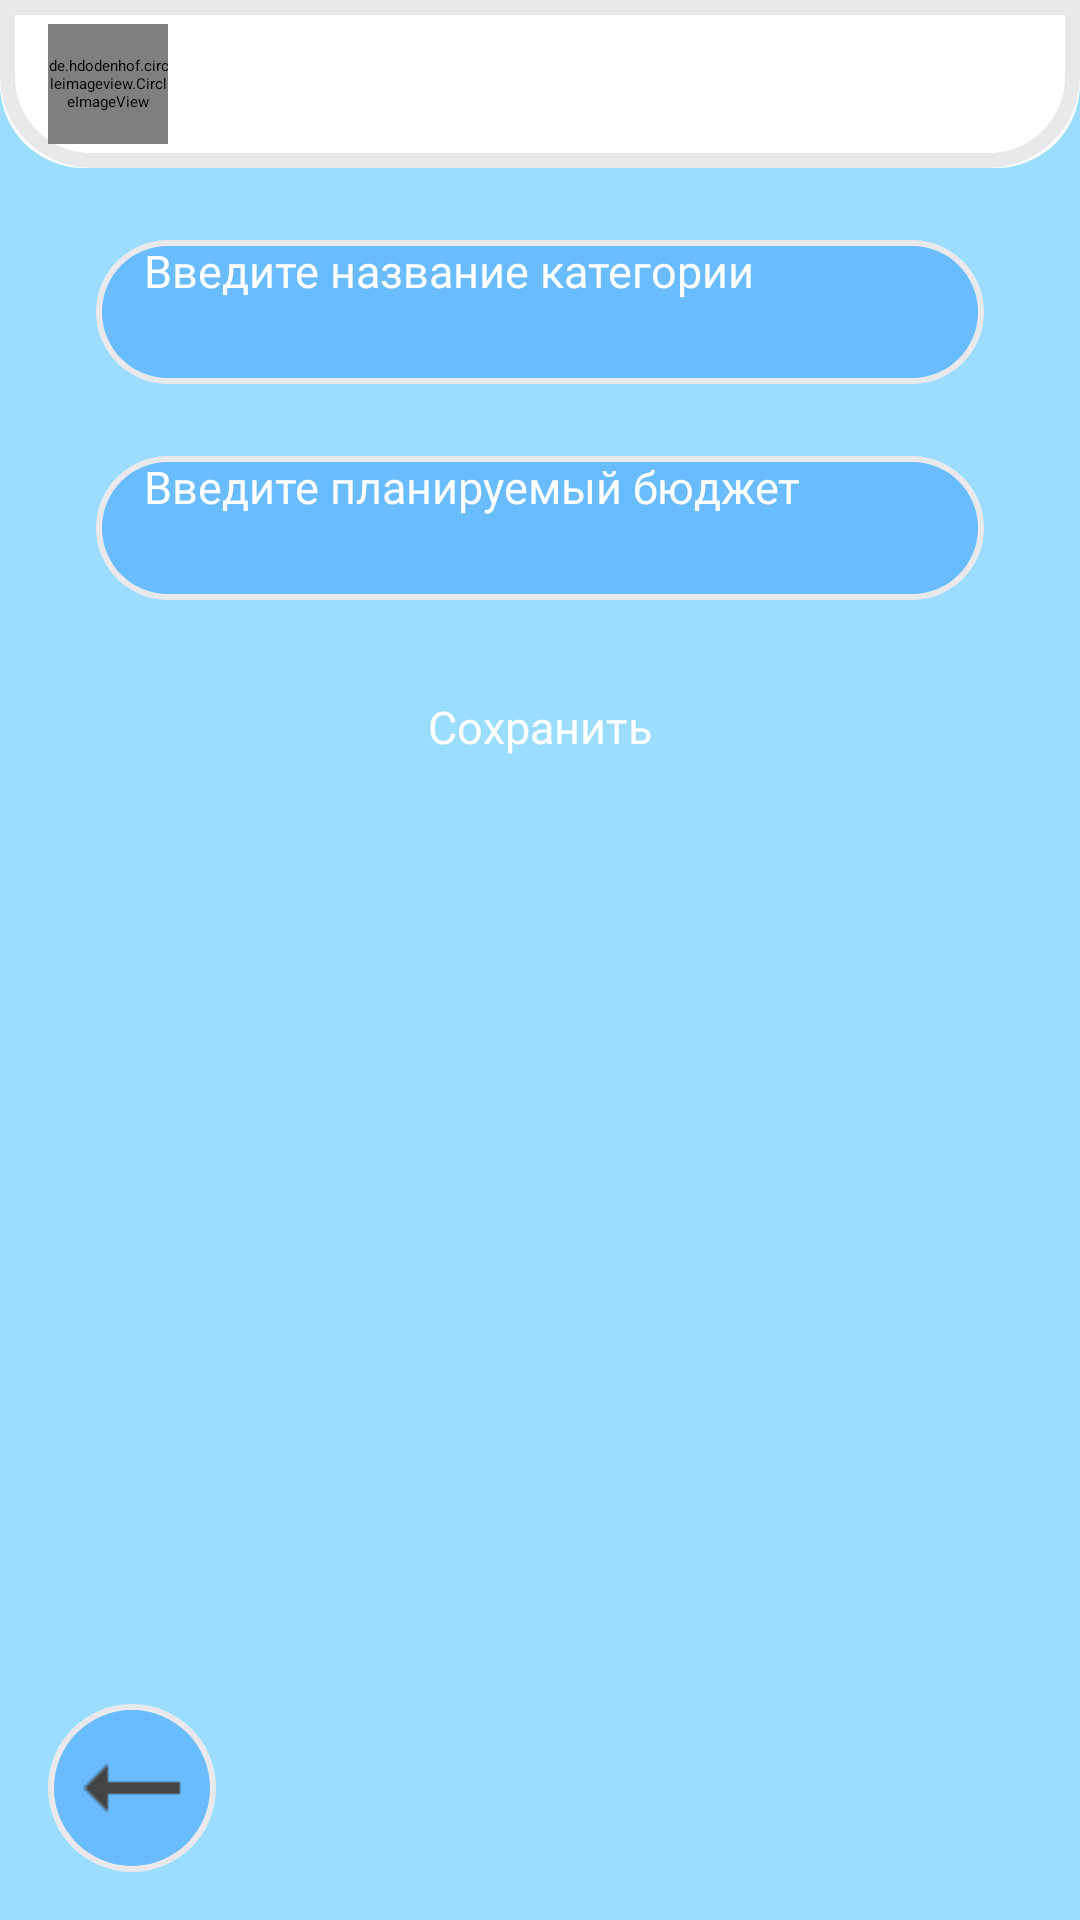

Icons on this 1080 x 1920 Android screen, each with its box as (x1, y1, x2, y2):
back: (48, 1704, 216, 1872)
